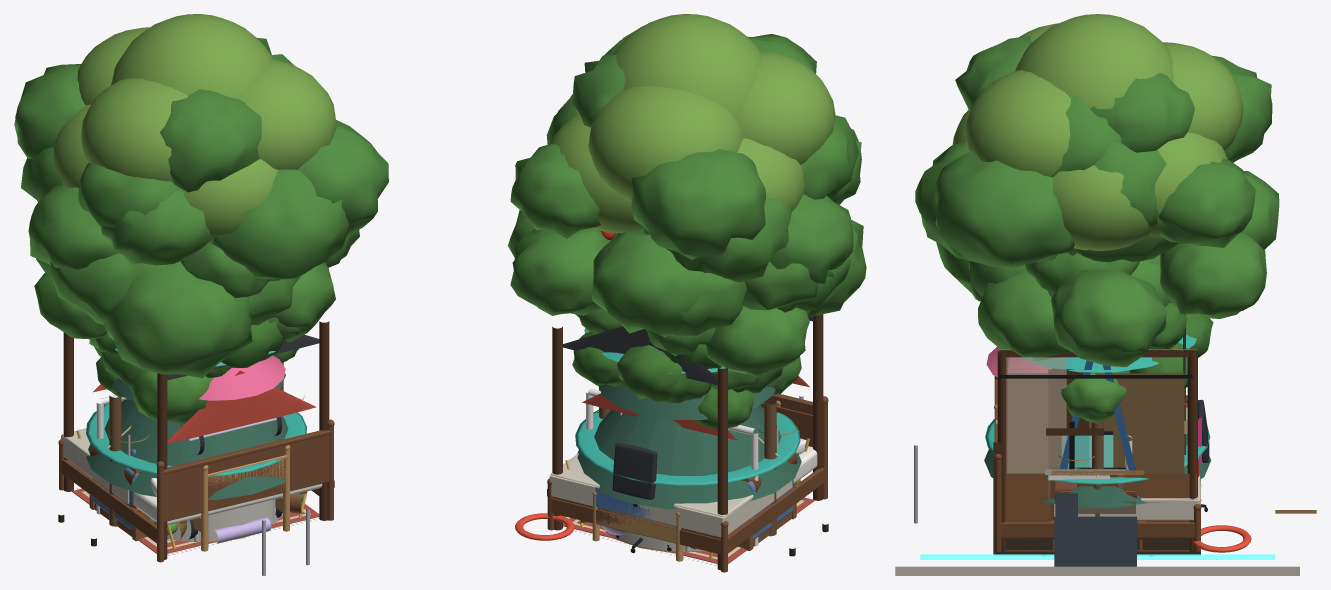
The model's file is hood-furniture.glb.
3 views of the same model, side by side, from view 1: azimuth 30°, elevation 25°; view 2: azimuth 150°, elevation 25°; view 3: azimuth 270°, elevation 25° (orthographic).
Visible parts, largest first — view 1: tree, birch, bed-double, spruce, apple-tree, bed-canopy, playhouse, slide, bed-twin, trampoline, fountain, rug (+3 smaller); view 2: tree, birch, spruce, bed-double, apple-tree, bed-canopy, trampoline, bed-twin, computer, shed, rug, hammock (+4 smaller); view 3: tree, birch, shed, bed-canopy, pool, apple-tree, sofa-long, bed-double, hot-tub, bookshelf-wide, bed-queen, spruce (+7 smaller).
Boxes of the visible parts, x1,y1,x2,y2 form: tree: (14,24,388,378); birch: (53,14,336,243); bed-double: (58,419,334,562); spruce: (86,355,288,499); apple-tree: (89,317,300,424); bed-canopy: (63,321,329,560); playhouse: (93,370,316,443); slide: (199,355,285,400); bed-twin: (192,445,290,551); trampoline: (86,400,306,541); fountain: (150,500,282,541); rug: (72,488,319,555); tree: (508,34,866,377); birch: (550,14,835,233); spruce: (577,383,801,509); bed-double: (547,394,828,572); apple-tree: (572,231,801,429); bed-canopy: (552,314,823,570); trampoline: (575,409,800,551); bed-twin: (592,400,780,561); computer: (612,443,671,553); shed: (563,317,819,387); rug: (563,496,814,565); hammock: (596,388,778,536); tree: (915,36,1279,366); birch: (952,14,1243,250); shed: (998,314,1192,473); bed-canopy: (993,349,1197,553); pool: (895,445,1316,575); apple-tree: (1061,303,1213,422); sofa-long: (1054,493,1136,566); bed-double: (994,376,1201,551); hot-tub: (1005,395,1196,551); bookshelf-wide: (1048,369,1089,468); bed-queen: (993,532,1200,554); spruce: (984,368,1211,507).
Size of the model in its own units: 3.59 by 5.27 by 4.08.
